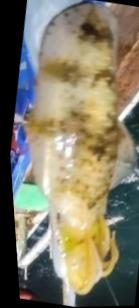Cephalopod: (20, 4, 130, 306)
